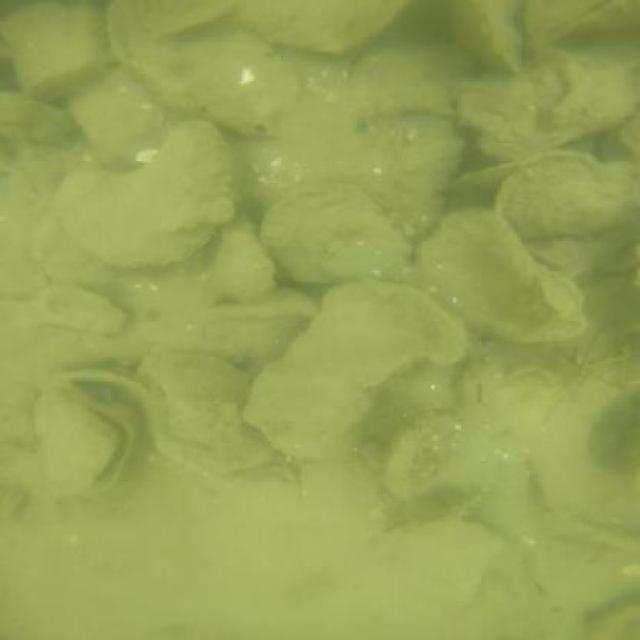Oyster-Closed: (491, 148, 639, 243)
Oyster-Indeterminate: (244, 280, 476, 461), (54, 114, 238, 267), (405, 200, 590, 352), (133, 352, 281, 476), (259, 181, 415, 287), (238, 0, 407, 53), (428, 1, 525, 78), (23, 282, 135, 345)
Oyster-Open: (36, 397, 139, 501)
